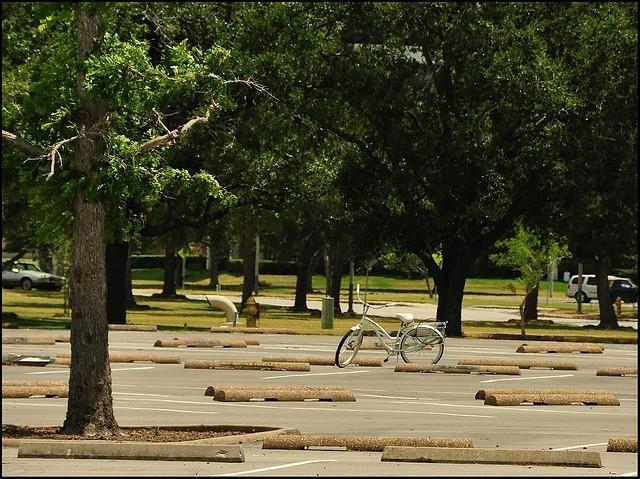bicycle: (336, 283, 450, 368)
car: (2, 260, 66, 291), (568, 274, 599, 303), (608, 276, 638, 304)
